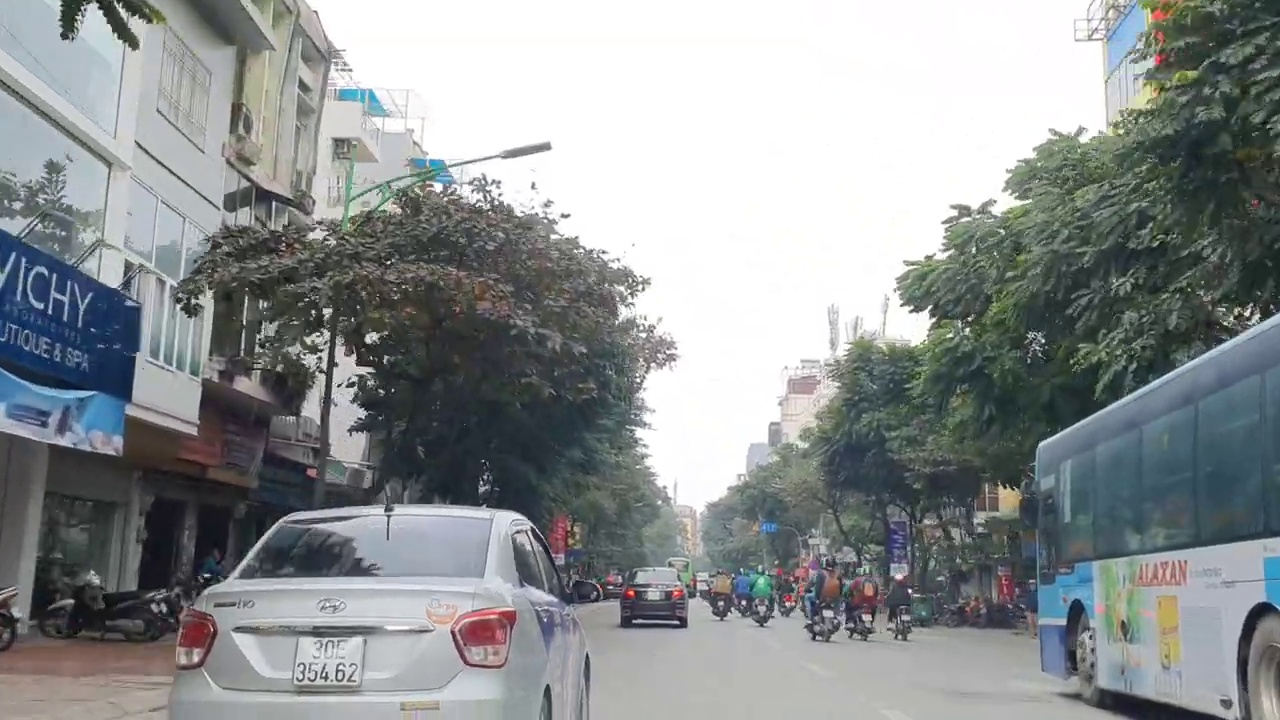vehicle-plate: (290, 630, 366, 699)
